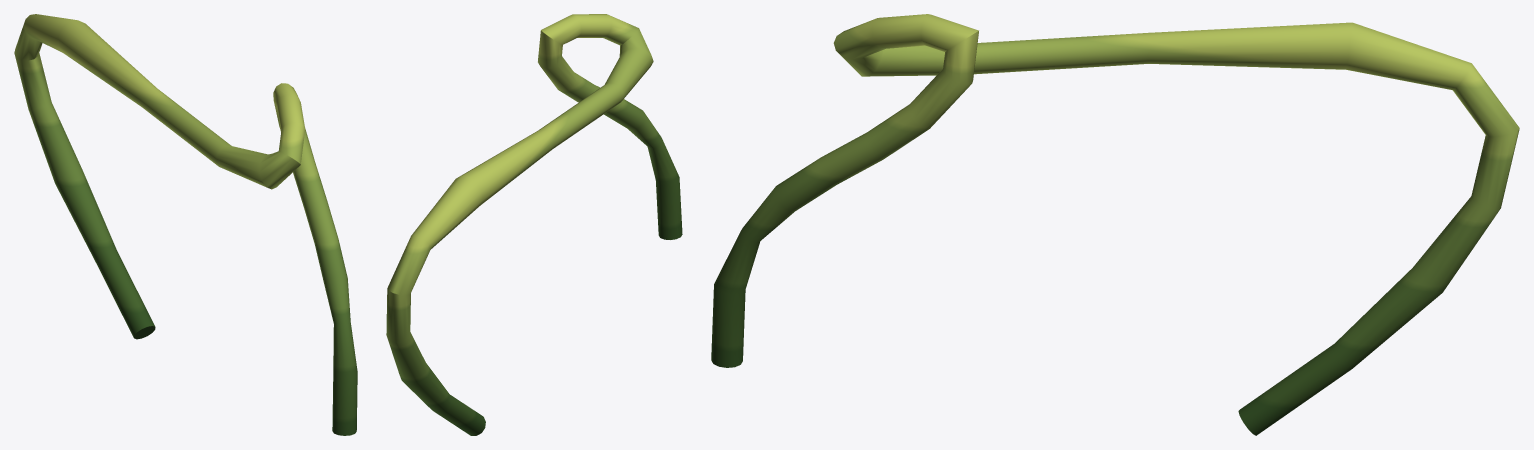
Rendered from plant_012.fbx.
3 views of the same model, side by side, from view 1: azimuth 30°, elevation 25°; view 2: azimuth 150°, elevation 25°; view 3: azimuth 270°, elevation 25° (orthographic). The views are drawn at different scales.
Visible parts, largest first — view 1: plant.012; view 2: plant.012; view 3: plant.012.
Boxes of the visible parts, bbox=[...] form: plant.012: bbox=[14, 14, 357, 435]; plant.012: bbox=[386, 14, 682, 435]; plant.012: bbox=[711, 14, 1519, 435].
Size of the model in its own units: 10.93 by 37.39 by 63.37.
